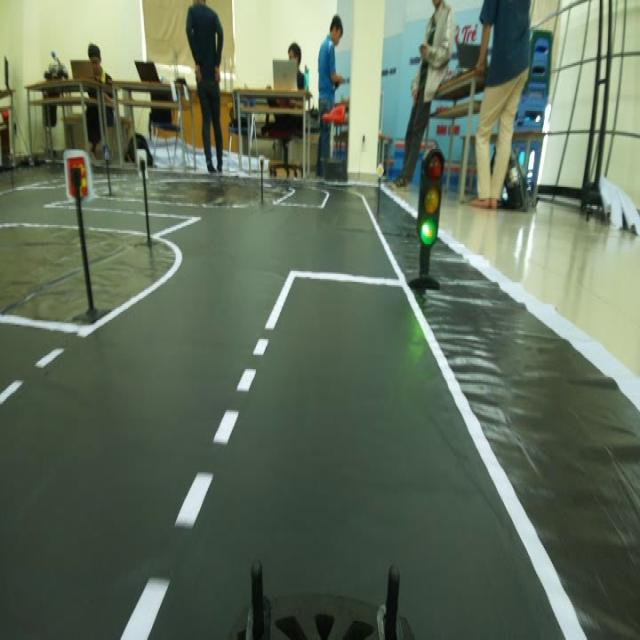trafficlight: (410, 133, 450, 303)
